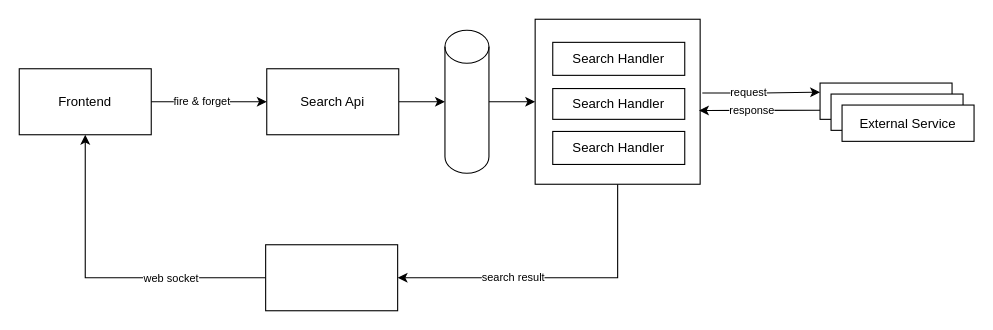
This 993x330 diagram has some shape labels left out. The shapes that lost their labels are listed below. From the top down, each one's centre as x and y in pixels, then its label:
At point 466,101: "queue".
At point 331,277: "Notification Api".
